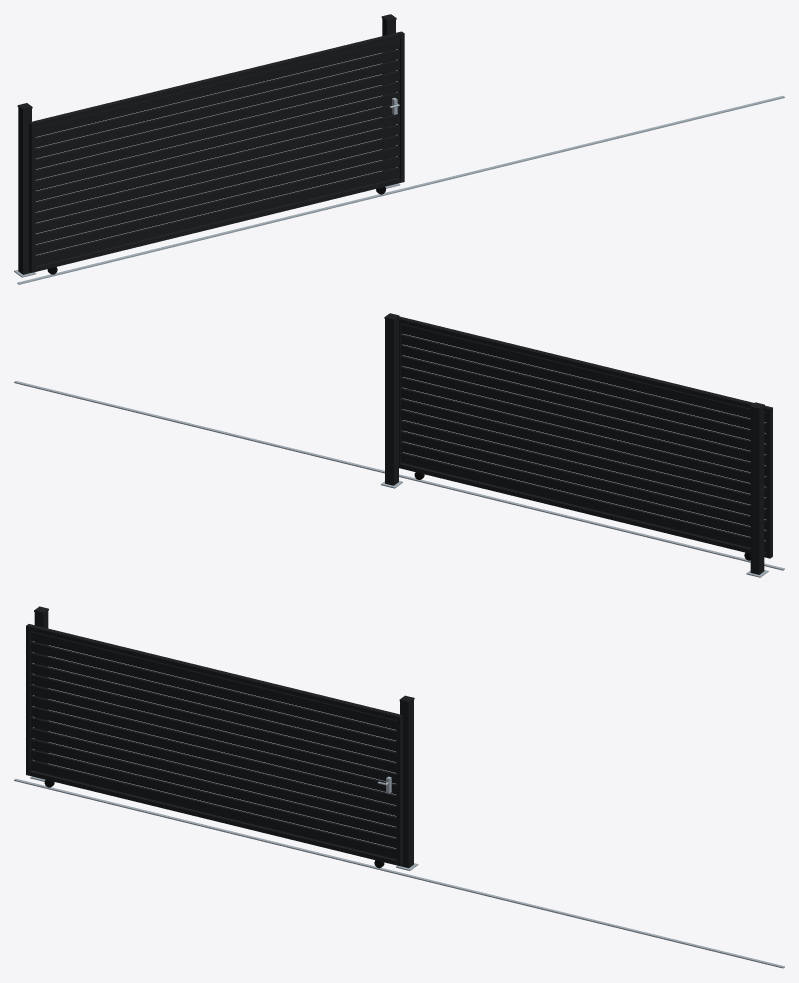
Rendered from 01-klizna.glb.
3 views of the same model, one above another, from view 1: azimuth 30°, elevation 25°; view 2: azimuth 150°, elevation 25°; view 3: azimuth 330°, elevation 25° (orthographic).
Parts seen in each view (by area): view 1: Ispuna_horizontalna.052, Ispuna_horizontalna.056, Ispuna_horizontalna.063, Ispuna_horizontalna.054, Ispuna_horizontalna.061, Ispuna_horizontalna.062, Ispuna_horizontalna.055, Ispuna_horizontalna.057, Ispuna_horizontalna.060, Ispuna_horizontalna.053, Ispuna_horizontalna.059, Ispuna_horizontalna.058 (+7 smaller); view 2: Ispuna_horizontalna.056, Ispuna_horizontalna.061, Ispuna_horizontalna.055, Ispuna_horizontalna.059, Ispuna_horizontalna.060, Ispuna_horizontalna.057, Ispuna_horizontalna.053, Ispuna_horizontalna.058, Ispuna_horizontalna.062, Ispuna_horizontalna.052, Ispuna_horizontalna.054, Ispuna_horizontalna.063 (+7 smaller); view 3: Ispuna_horizontalna.063, Ispuna_horizontalna.062, Ispuna_horizontalna.054, Ispuna_horizontalna.061, Ispuna_horizontalna.052, Ispuna_horizontalna.060, Ispuna_horizontalna.053, Ispuna_horizontalna.055, Ispuna_horizontalna.057, Ispuna_horizontalna.056, Ispuna_horizontalna.059, Ispuna_horizontalna.058 (+7 smaller).
Part boxes in pixels (box(x1,y1,x2,y2)): Ispuna_horizontalna.052: box(35, 167, 399, 265); Ispuna_horizontalna.056: box(35, 124, 399, 222); Ispuna_horizontalna.063: box(35, 49, 399, 147); Ispuna_horizontalna.054: box(35, 145, 399, 244); Ispuna_horizontalna.061: box(35, 70, 399, 169); Ispuna_horizontalna.062: box(35, 59, 399, 158); Ispuna_horizontalna.055: box(35, 135, 399, 233); Ispuna_horizontalna.057: box(35, 113, 399, 211); Ispuna_horizontalna.060: box(35, 81, 399, 179); Ispuna_horizontalna.053: box(35, 156, 399, 254); Ispuna_horizontalna.059: box(35, 92, 399, 190); Ispuna_horizontalna.058: box(35, 102, 399, 201); Ispuna_horizontalna.056: box(400, 409, 766, 508); Ispuna_horizontalna.061: box(400, 355, 766, 454); Ispuna_horizontalna.055: box(400, 420, 766, 519); Ispuna_horizontalna.059: box(400, 377, 766, 475); Ispuna_horizontalna.060: box(400, 366, 766, 465); Ispuna_horizontalna.057: box(400, 398, 766, 497); Ispuna_horizontalna.053: box(400, 441, 766, 540); Ispuna_horizontalna.058: box(400, 387, 766, 486); Ispuna_horizontalna.062: box(400, 344, 766, 443); Ispuna_horizontalna.052: box(400, 452, 766, 551); Ispuna_horizontalna.054: box(400, 431, 766, 529); Ispuna_horizontalna.063: box(400, 334, 766, 432); Ispuna_horizontalna.063: box(30, 641, 396, 740); Ispuna_horizontalna.062: box(30, 652, 396, 751); Ispuna_horizontalna.054: box(30, 738, 396, 837); Ispuna_horizontalna.061: box(30, 663, 396, 762); Ispuna_horizontalna.052: box(30, 760, 396, 858); Ispuna_horizontalna.060: box(30, 674, 396, 772); Ispuna_horizontalna.053: box(30, 749, 396, 848); Ispuna_horizontalna.055: box(30, 727, 396, 826); Ispuna_horizontalna.057: box(30, 706, 396, 805); Ispuna_horizontalna.056: box(30, 717, 396, 815); Ispuna_horizontalna.059: box(30, 684, 396, 783); Ispuna_horizontalna.058: box(30, 695, 396, 794).
Bounding box in the file's own units: 8.63 × 1.8 × 0.38.
